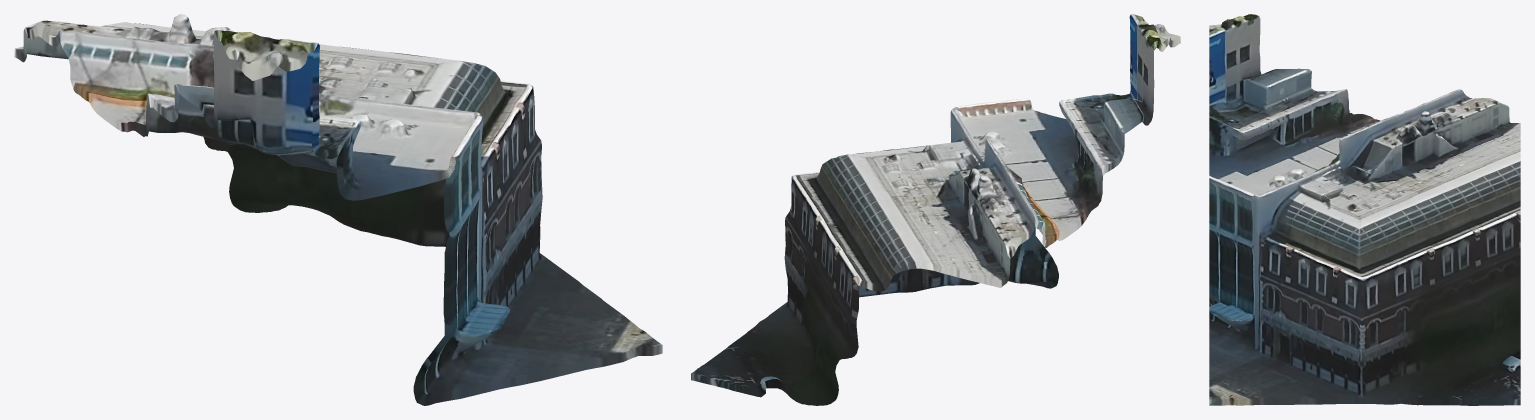
The model's file is z20-167793-405228-h0-yup-uvflip-v3-world.glb.
The picture shows the model from 3 angles, left to right: view 1: azimuth 30°, elevation 25°; view 2: azimuth 150°, elevation 25°; view 3: azimuth 270°, elevation 25°; orthographic projection. The views are drawn at different scales.
Bounding box in the file's own units: 30.2 × 28.2 × 30.32.
1 material, 1 textured.
